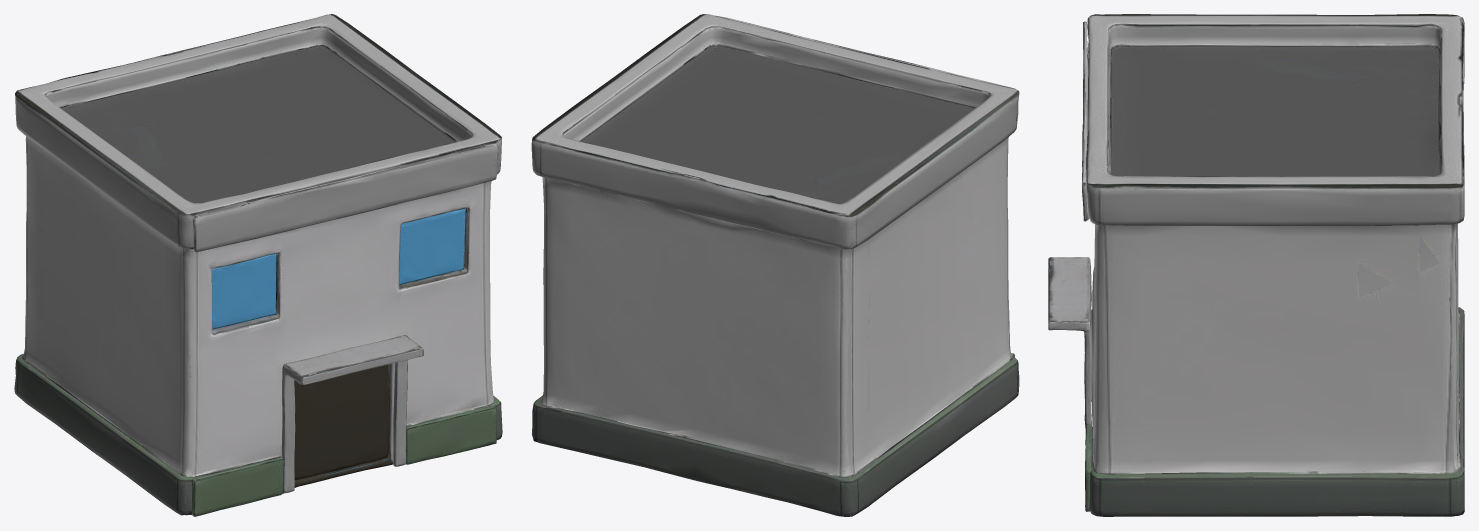
File: building-3-small-rear-fixed.glb
3 views of the same model, side by side, from view 1: azimuth 30°, elevation 25°; view 2: azimuth 150°, elevation 25°; view 3: azimuth 270°, elevation 25° (orthographic). The views are drawn at different scales.
Bounding box in the file's own units: 0.9879 × 0.8815 × 1.
1 material, 1 textured.
